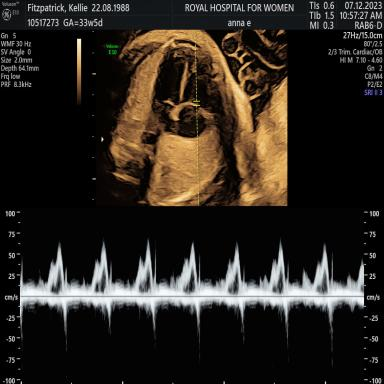Ultrasound-Waves: (27, 216, 362, 384)
